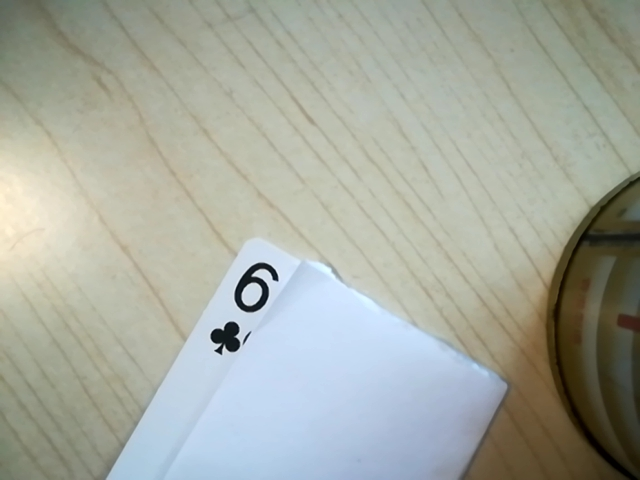mh 6: (199, 257, 293, 362)
